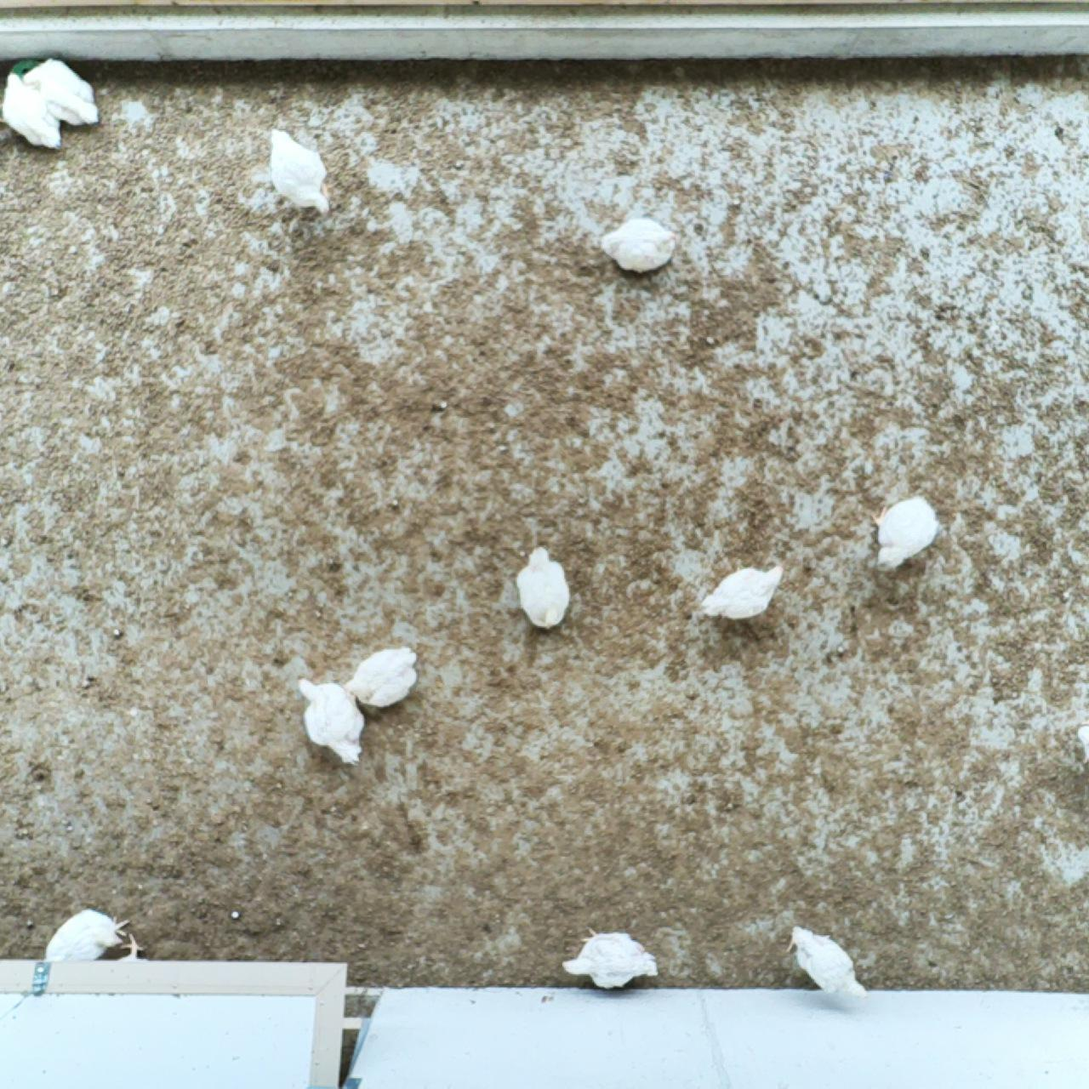chicken: (294, 670, 368, 767), (559, 926, 661, 993), (263, 123, 336, 216), (785, 920, 866, 1002), (19, 55, 104, 129), (36, 906, 126, 975), (696, 559, 784, 625), (875, 492, 941, 572), (0, 68, 66, 147), (345, 644, 421, 712), (597, 214, 678, 277), (517, 544, 569, 632), (97, 930, 154, 987)
